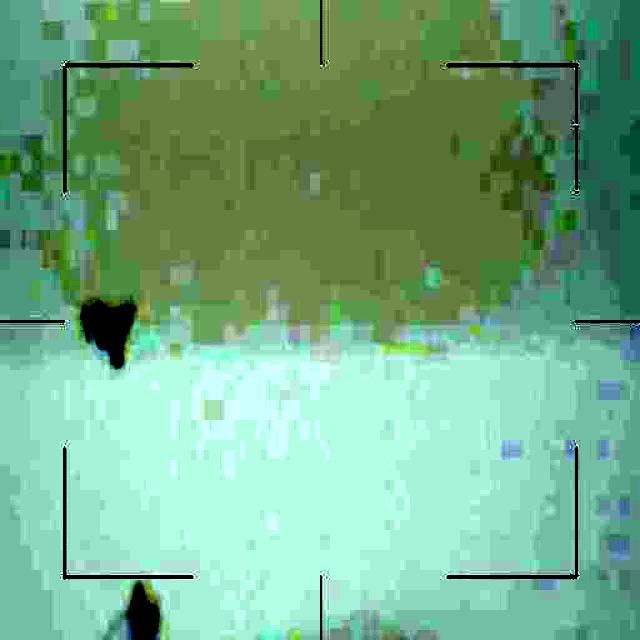bird: (70, 301, 138, 368)
